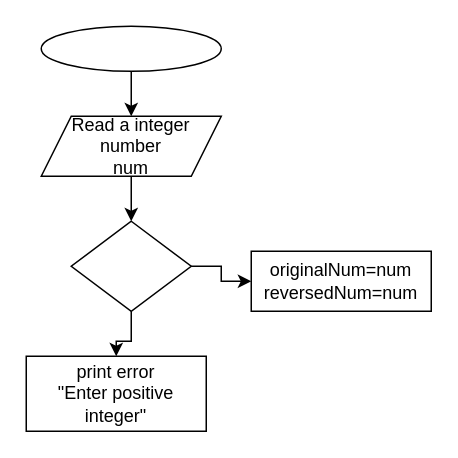
This 458x458 diagram has some shape labels left out. The shapes that lost their labels are listed below. From the top down, each one's centre as x and y in pixels, then its label:
At point 130,48: "start".
At point 130,265: "If num<o".
